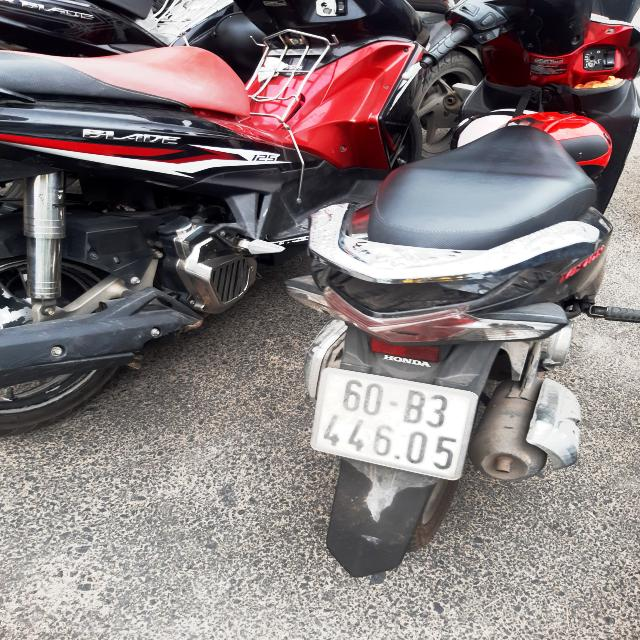license_plate: (299, 364, 490, 493)
